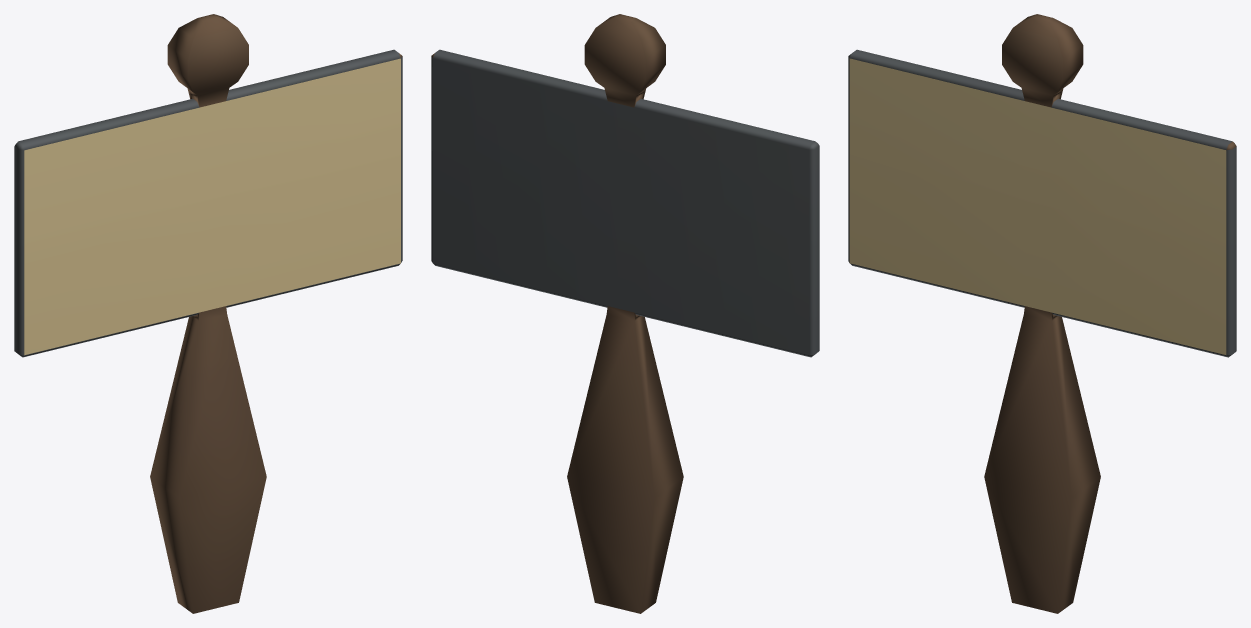
File: sign.fbx
The picture shows the model from 3 angles, left to right: view 1: azimuth 30°, elevation 25°; view 2: azimuth 150°, elevation 25°; view 3: azimuth 330°, elevation 25°; orthographic projection.
Parts seen in each view (by area): view 1: pSphere2; view 2: pSphere2; view 3: pSphere2.
Boxes of the visible parts, left/top/right/bottom form: pSphere2: left=14, top=14, right=402, bottom=613; pSphere2: left=431, top=14, right=819, bottom=613; pSphere2: left=848, top=14, right=1236, bottom=613.
Size of the model in its own units: 6.37 by 9.3 by 0.8397.
